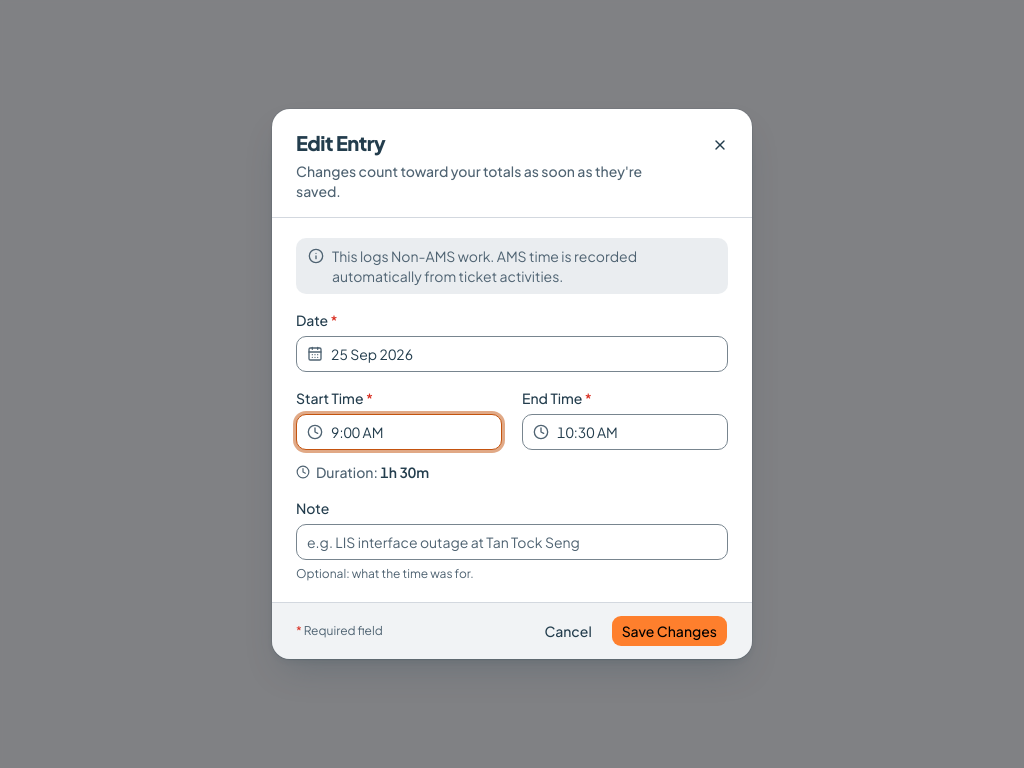
Test: LogHoursDialog validation › refuses a date after 'today' (in the viewer's zone)
Step 1. Click the button "Save Changes" → (669, 631), box [611, 615, 728, 647]
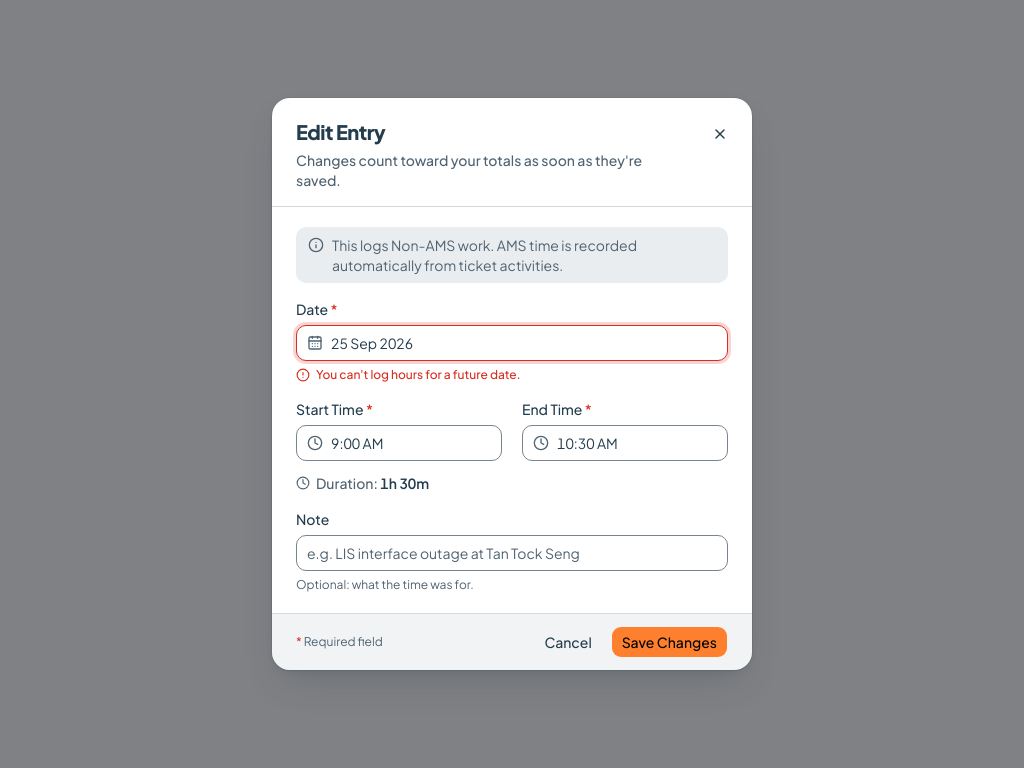
Result: the element showing "You can't log hours for a future date." is shown at [296, 367, 520, 382]
